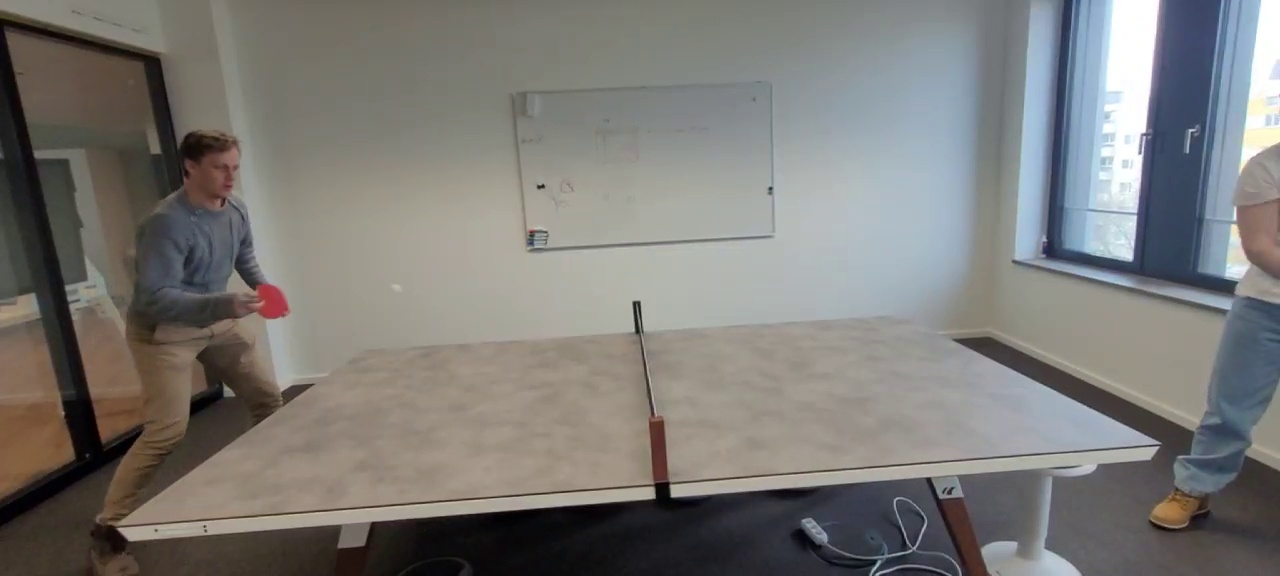1: (242, 284, 287, 319)
2: (390, 284, 404, 293)
ttplatte: (116, 313, 1159, 525)
